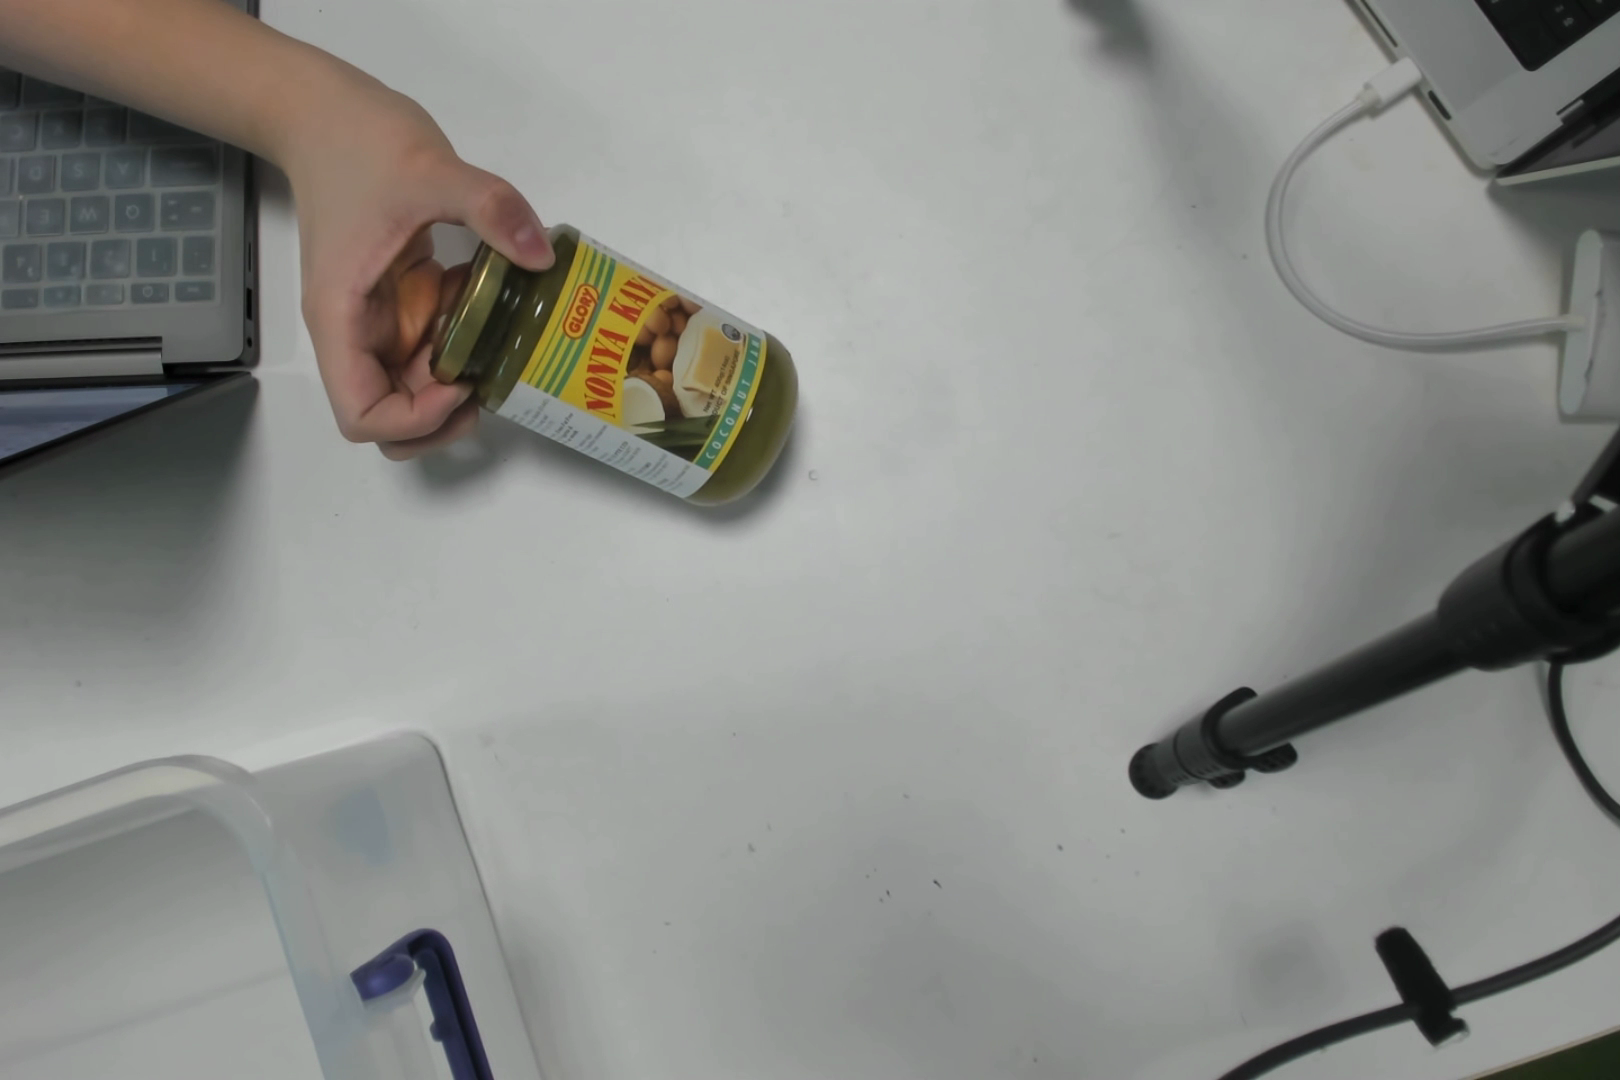Kaya_400-499g_Halal_NonHealthy: (485, 242, 833, 499)
